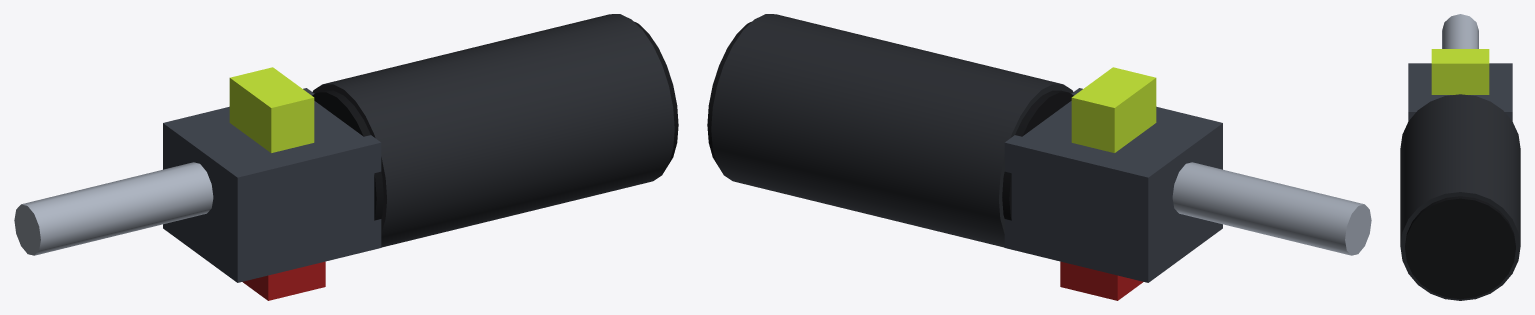
The model's file is kvi-man-01.glb.
The picture shows the model from 3 angles, left to right: view 1: azimuth 30°, elevation 25°; view 2: azimuth 150°, elevation 25°; view 3: azimuth 270°, elevation 25°; orthographic projection. The views are drawn at different scales.
Visible parts, largest first — view 1: Puño acelerador con reversa; view 2: Puño acelerador con reversa; view 3: Puño acelerador con reversa.
Part boxes in pixels (x1=…): Puño acelerador con reversa: x1=14, y1=14, x2=678, y2=300; Puño acelerador con reversa: x1=707, y1=14, x2=1371, y2=300; Puño acelerador con reversa: x1=1400, y1=14, x2=1520, y2=300.
Bounding box in the file's own units: 1 × 0.2941 × 0.2447.
